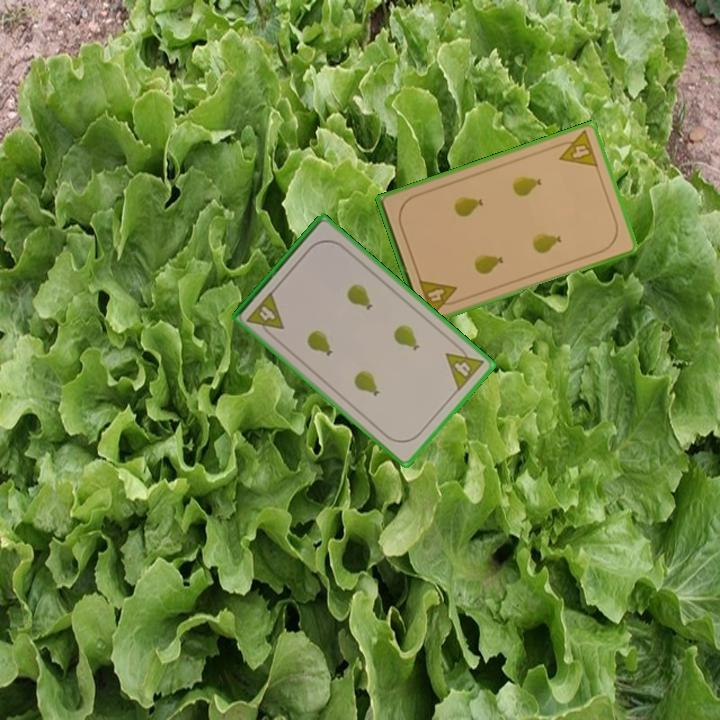4p: (442, 339, 487, 394), (243, 288, 287, 341), (552, 127, 601, 170), (415, 275, 463, 318)
